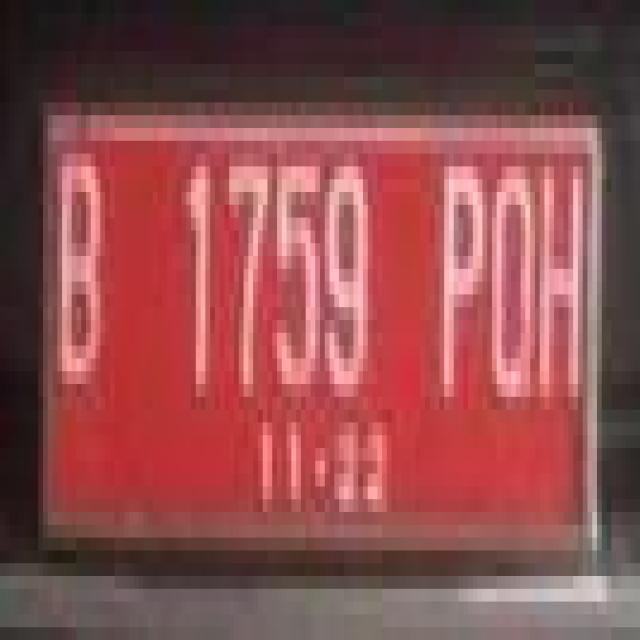1: (182, 147, 220, 429)
5: (272, 147, 320, 403)
7: (225, 147, 272, 429)
9: (318, 154, 376, 422)
B: (54, 140, 108, 410)
H: (537, 154, 585, 422)
P: (434, 153, 488, 410)
Q: (487, 147, 540, 416)
